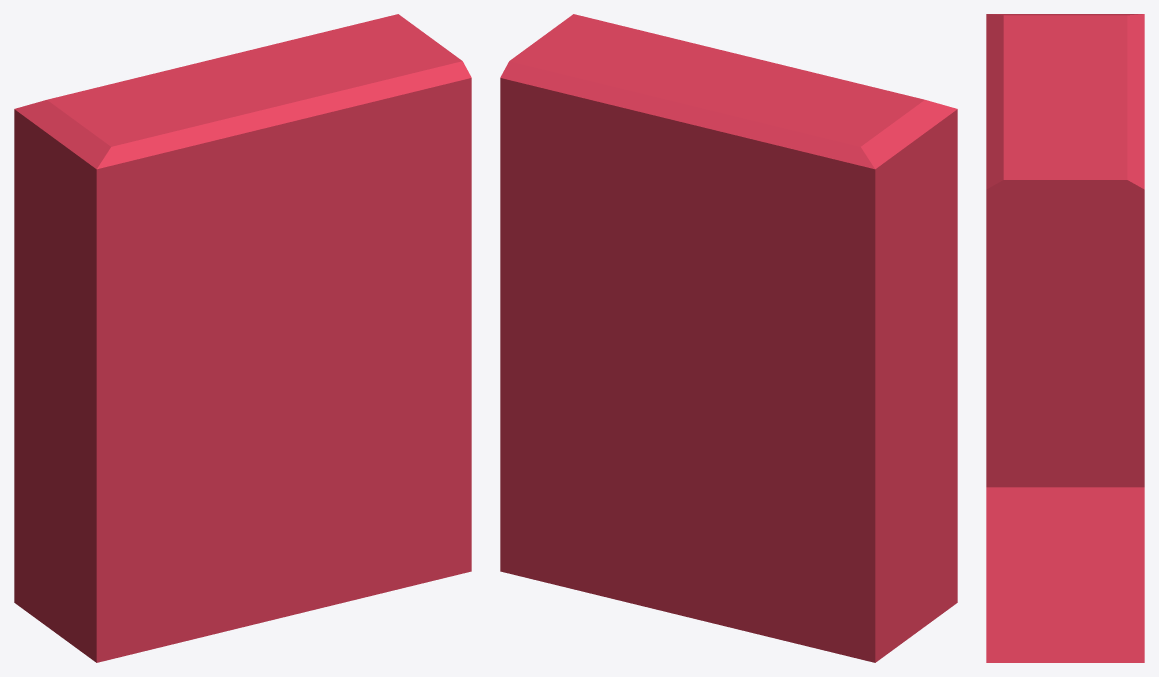
The model's file is Itr_Couch_Outside_Back_Left_01.FBX.
3 renders of one model, left to right at view 1: azimuth 30°, elevation 25°; view 2: azimuth 150°, elevation 25°; view 3: azimuth 270°, elevation 25°, orthographic. The views are drawn at different scales.
Parts seen in each view (by area): view 1: Itr_Couch_Outside_Back_Left_01; view 2: Itr_Couch_Outside_Back_Left_01; view 3: Itr_Couch_Outside_Back_Left_01.
Boxes of the visible parts, x1=… form: Itr_Couch_Outside_Back_Left_01: x1=14, y1=14, x2=471, y2=662; Itr_Couch_Outside_Back_Left_01: x1=500, y1=14, x2=957, y2=662; Itr_Couch_Outside_Back_Left_01: x1=986, y1=14, x2=1144, y2=662.
Bounding box in the file's own units: 18.89 × 24.24 × 7.19.
